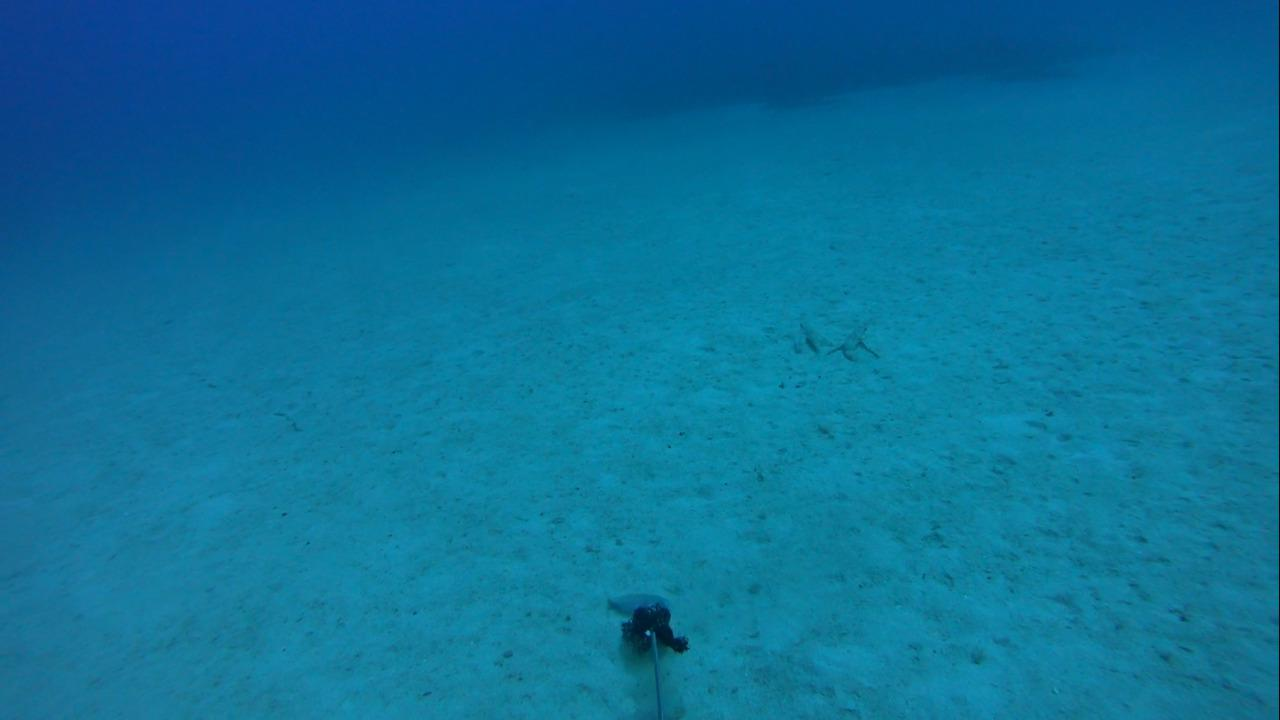dactylopterus: (779, 312, 828, 372), (833, 312, 889, 360)
raor: (589, 585, 667, 621)
